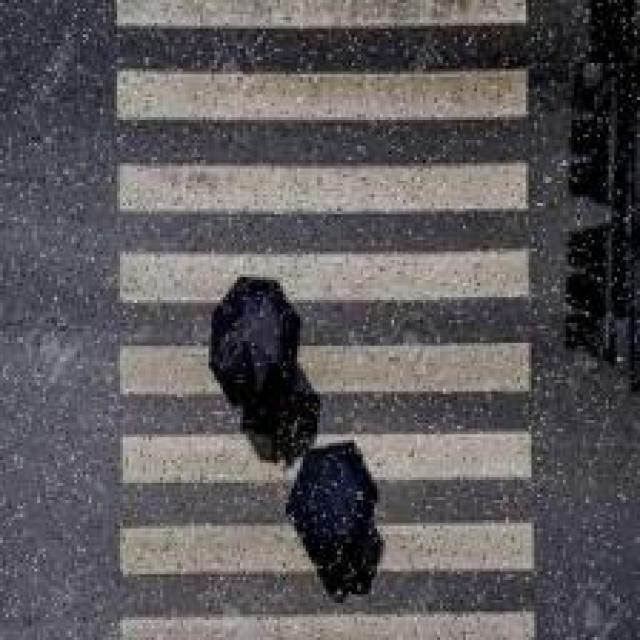crosswalk: (113, 11, 533, 640)
